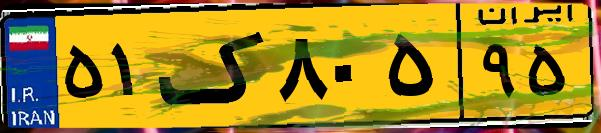0: (330, 28, 385, 110)
1: (110, 28, 158, 98)
5: (385, 28, 445, 110), (57, 26, 110, 100), (525, 38, 570, 115)
8: (270, 28, 330, 110)
9: (475, 38, 525, 113)
ک: (158, 12, 270, 120)
